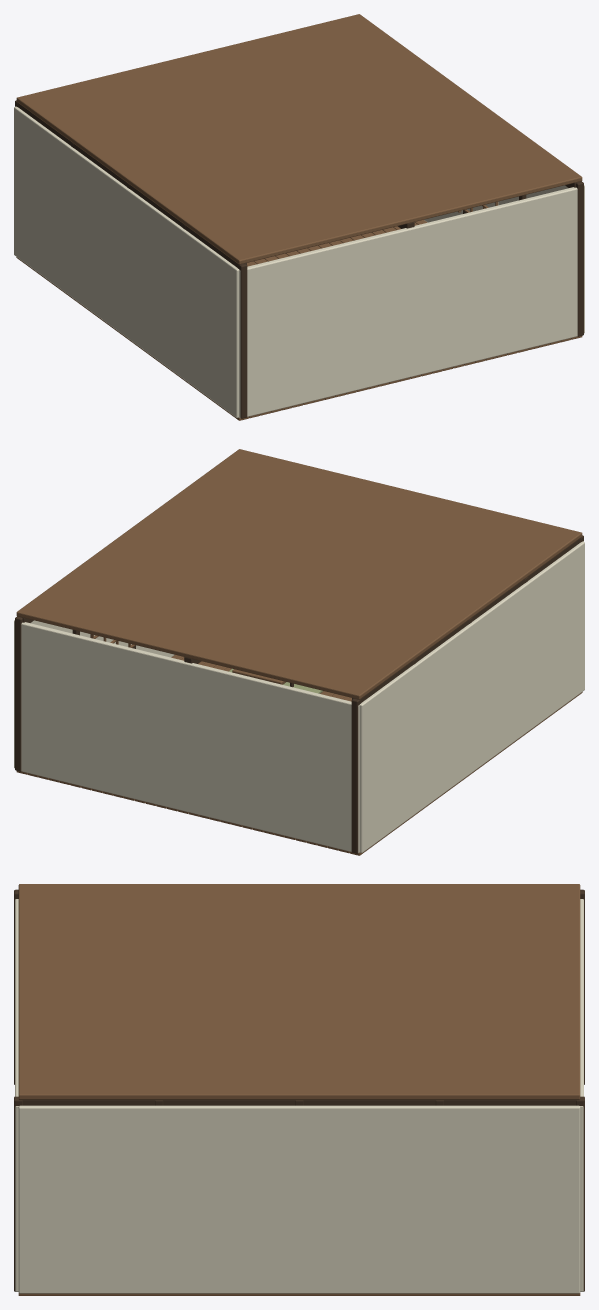
The model's file is koharu-interior.glb.
The picture shows the model from 3 angles, top to bottom: view 1: azimuth 30°, elevation 25°; view 2: azimuth 150°, elevation 25°; view 3: azimuth 270°, elevation 25°; orthographic projection. The views are drawn at different scales.
Visible parts, largest first — view 1: Ceiling, End_wall.001, Plaster_wall, Wall_post.004, Ceiling_beam, Wall_post.009, Plaster_wall.001; view 2: Ceiling, End_wall, Plaster_wall, Wall_post, Ceiling_beam, Wall_post.005, Plaster_wall.001; view 3: Ceiling, Plaster_wall.001, Ceiling_beam.002, Floorboard.031, End_wall, End_wall.001.
Part boxes in pixels (x1=…): Ceiling: x1=16, y1=14, x2=582, y2=264; End_wall.001: x1=239, y1=187, x2=577, y2=418; Plaster_wall: x1=14, y1=106, x2=239, y2=417; Wall_post.004: x1=238, y1=264, x2=247, y2=418; Ceiling_beam: x1=17, y1=102, x2=246, y2=267; Wall_post.009: x1=576, y1=181, x2=583, y2=336; Plaster_wall.001: x1=424, y1=185, x2=584, y2=333; Ceiling: x1=16, y1=449, x2=582, y2=699; End_wall: x1=21, y1=622, x2=359, y2=853; Plaster_wall: x1=359, y1=541, x2=584, y2=852; Wall_post: x1=351, y1=699, x2=360, y2=853; Ceiling_beam: x1=352, y1=537, x2=581, y2=702; Wall_post.005: x1=15, y1=616, x2=22, y2=771; Plaster_wall.001: x1=14, y1=620, x2=174, y2=768; Ceiling: x1=18, y1=884, x2=580, y2=1099; Plaster_wall.001: x1=18, y1=1105, x2=580, y2=1293; Ceiling_beam.002: x1=19, y1=1099, x2=579, y2=1105; Floorboard.031: x1=18, y1=1293, x2=580, y2=1295; End_wall: x1=580, y1=899, x2=583, y2=1291; End_wall.001: x1=15, y1=899, x2=18, y2=1291.
Size of the model in its own units: 8.12 by 3.57 by 9.15.
